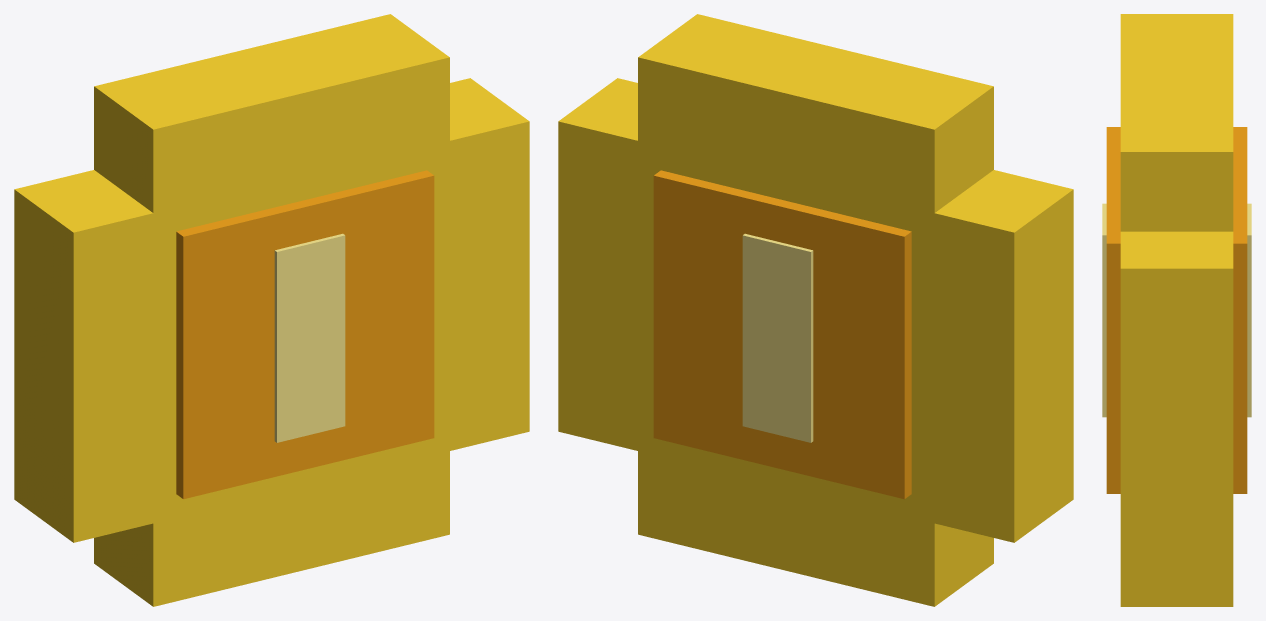
File: coin.obj
The picture shows the model from 3 angles, left to right: view 1: azimuth 30°, elevation 25°; view 2: azimuth 150°, elevation 25°; view 3: azimuth 270°, elevation 25°; orthographic projection. The views are drawn at different scales.
Size of the model in its own units: 0.4 by 0.4 by 0.119.
